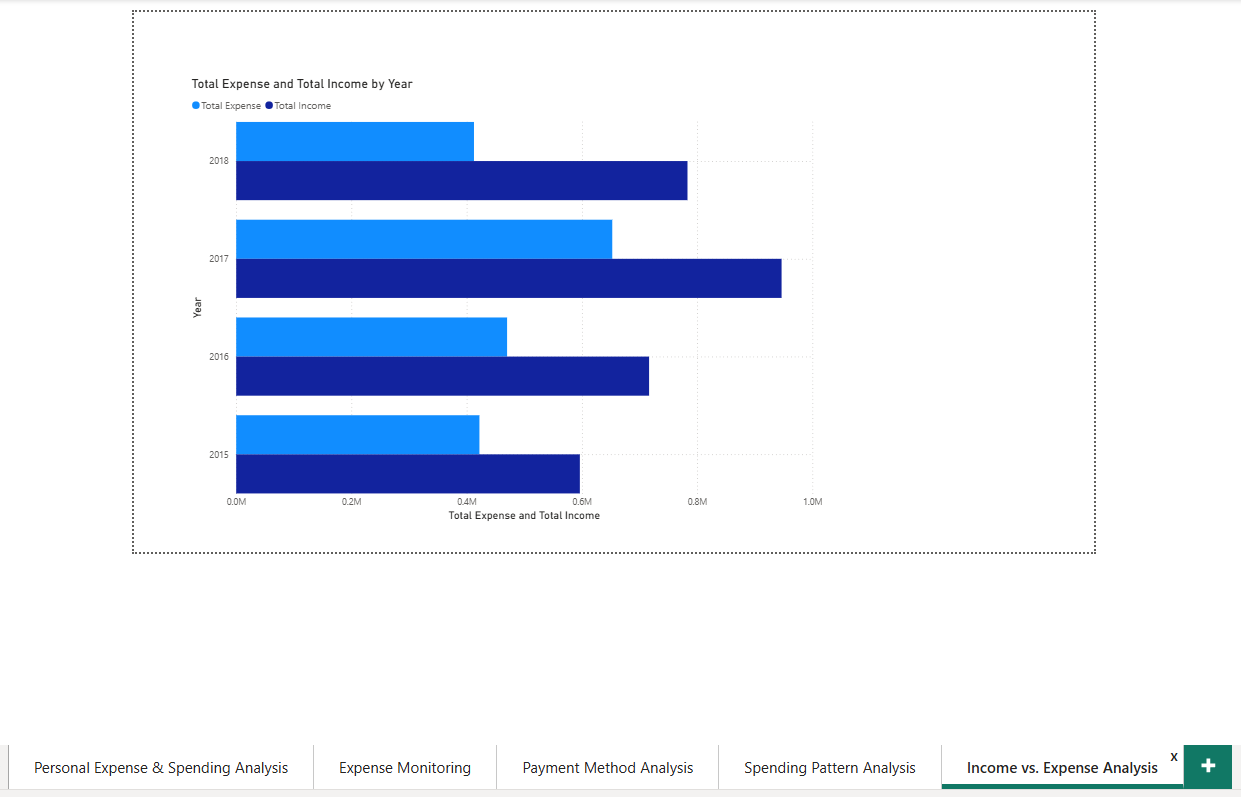

Layout of this report page (visuals, bound fields, positions):
{"tool":"powerbi","page":{"name":"Income vs. Expense Analysis","canvas":[1280,720],"ordinal":4},"visuals":[{"type":"clusteredBarChart","fields":{"Y":["Daily Household Transactions.Total Expense","Daily Household Transactions.Total Income"],"Category":["Daily Household Transactions.Month-Year.Variation.Date Hierarchy.Year","Daily Household Transactions.Month-Year.Variation.Date Hierarchy.Quarter","Daily Household Transactions.Month-Year.Variation.Date Hierarchy.Month","Daily Household Transactions.Month-Year.Variation.Date Hierarchy.Day"]},"box":[71.4,85.1,852.1,599.7],"z":0}]}

Visuals, with their boxes on the page's 1280x720 design canvas (x1, y1, x2, y2). These are canvas units, not pixel positions in the 1241x797 screenshot, which may show the page scaled, cropped or inside an application window:
clusteredBarChart - Daily Household Transactions.Total Expense x Daily Household Transactions.Total Income: 71:85:924:685
